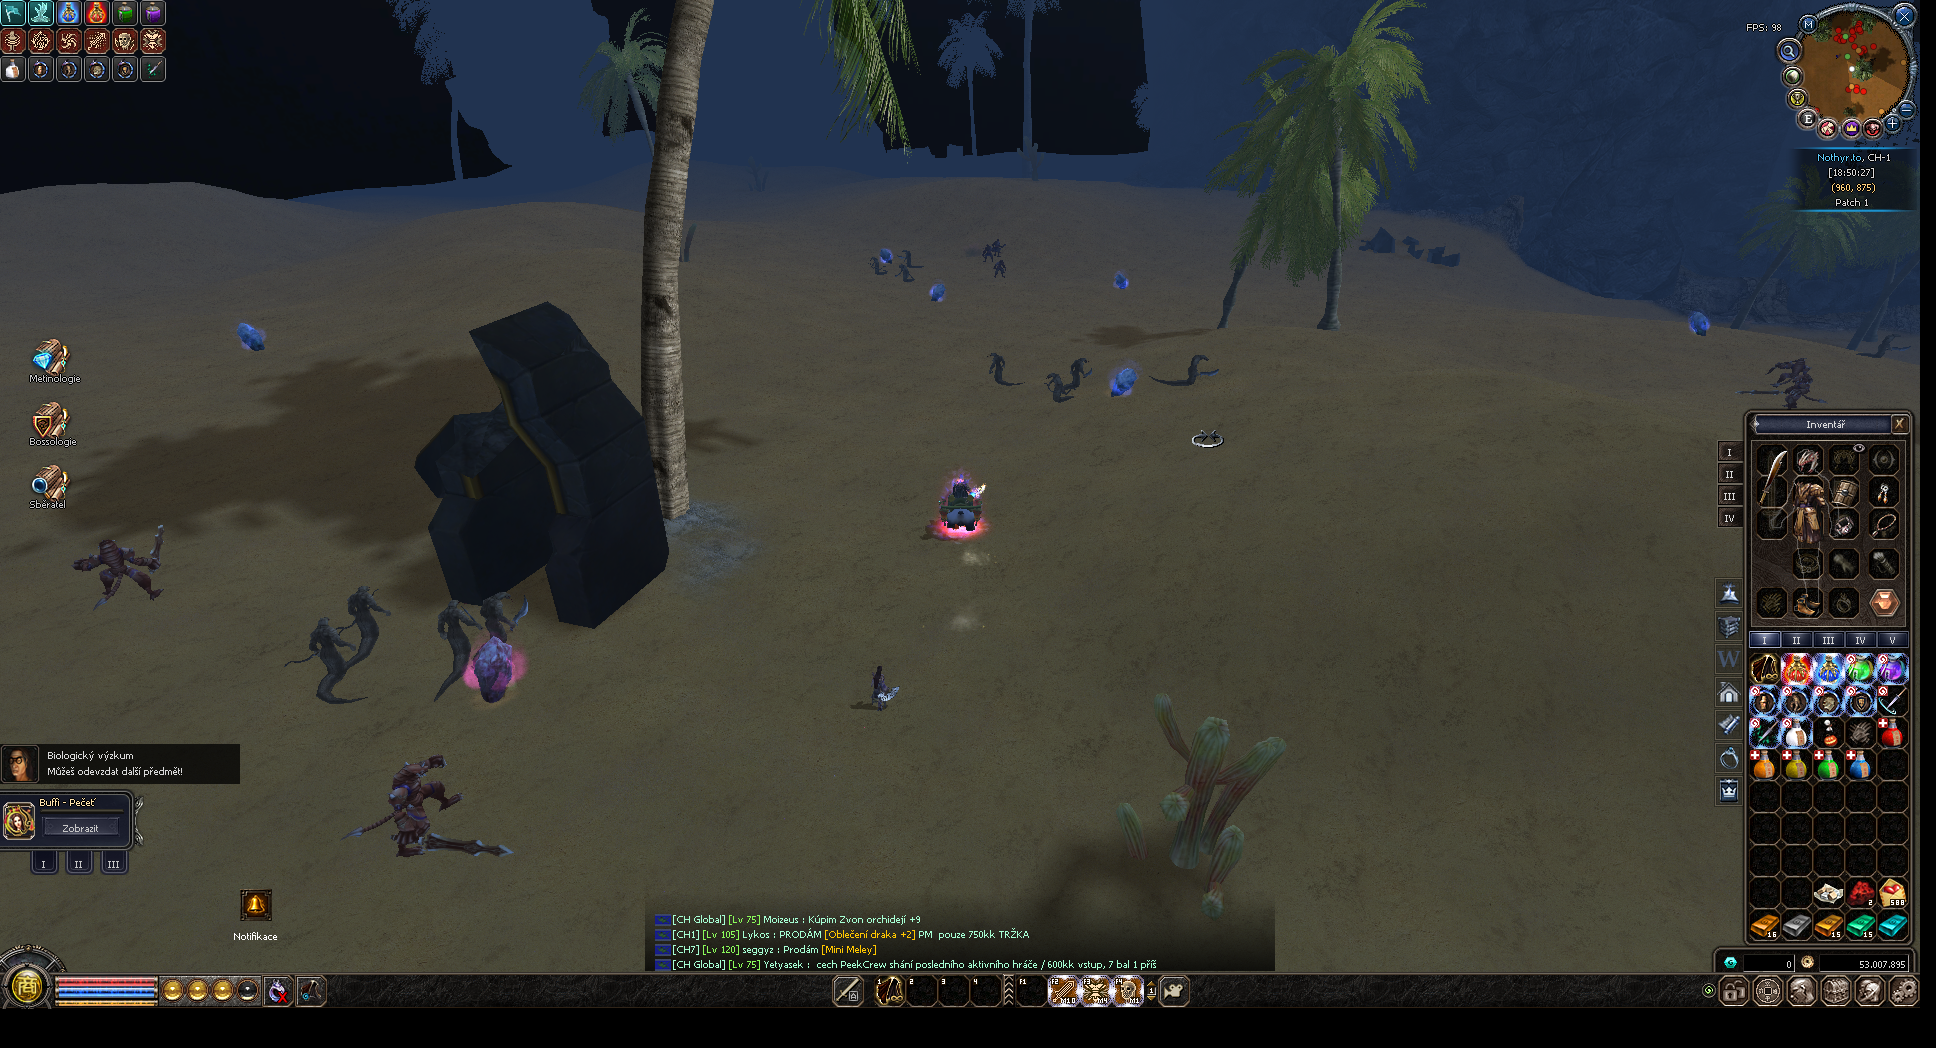Buff: (472, 636, 513, 701), (1047, 360, 1091, 402), (1152, 354, 1206, 386), (1109, 362, 1140, 396), (989, 353, 1018, 384), (1688, 310, 1724, 334), (237, 323, 265, 351), (1112, 271, 1129, 289), (929, 282, 944, 302), (992, 259, 1006, 276), (881, 248, 891, 261), (1201, 370, 1217, 376)
Enemy: (343, 755, 512, 857), (73, 526, 165, 609), (285, 617, 362, 704), (433, 600, 483, 701), (1737, 358, 1826, 410), (346, 586, 391, 667), (480, 592, 527, 642), (1151, 354, 1220, 386), (989, 352, 1022, 386), (1046, 373, 1074, 403), (1067, 358, 1093, 390), (982, 240, 1001, 261), (903, 250, 923, 268), (902, 265, 917, 282), (870, 258, 883, 274)
Me: (939, 473, 985, 532)
Statue: (872, 666, 899, 710)
